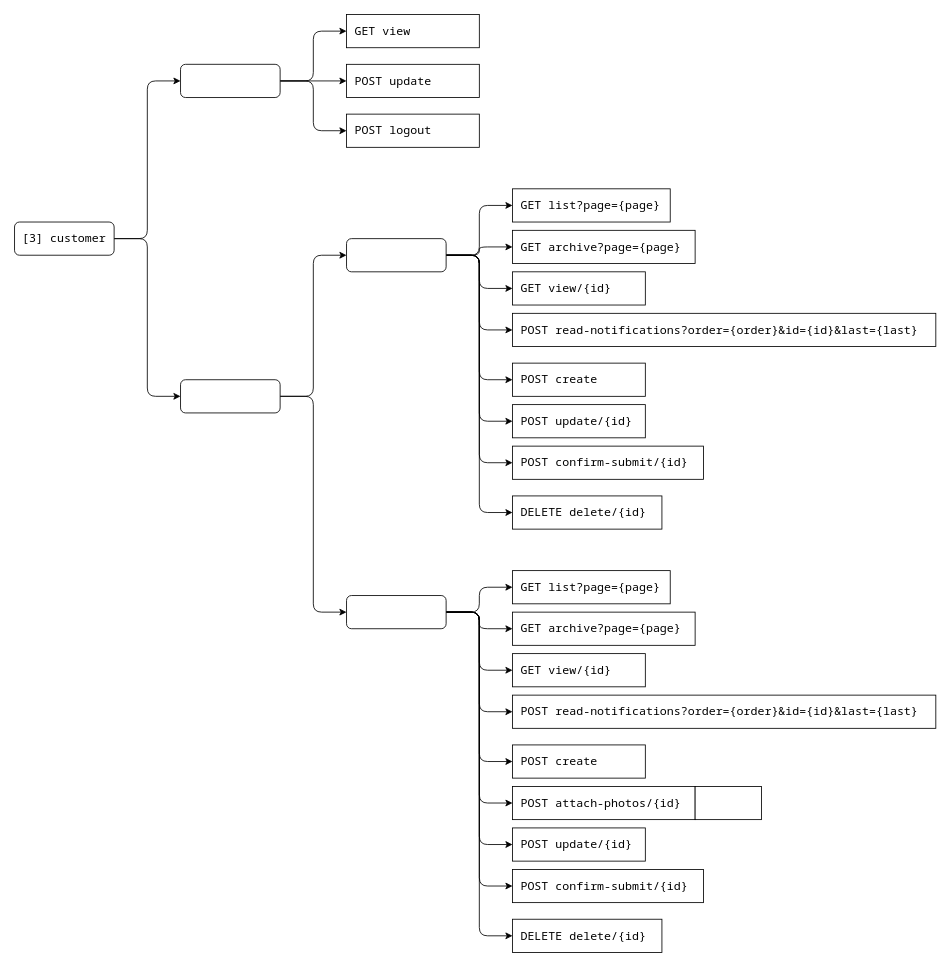
Some shapes in this 950 by 967 pixel diagram are drawn without their labels. The centre of each missing label's shape, as x and y in pixels:
File[]: the point at 728,803
orders: the point at 230,396
production: the point at 396,255
profile: the point at 230,80
repair: the point at 396,612
